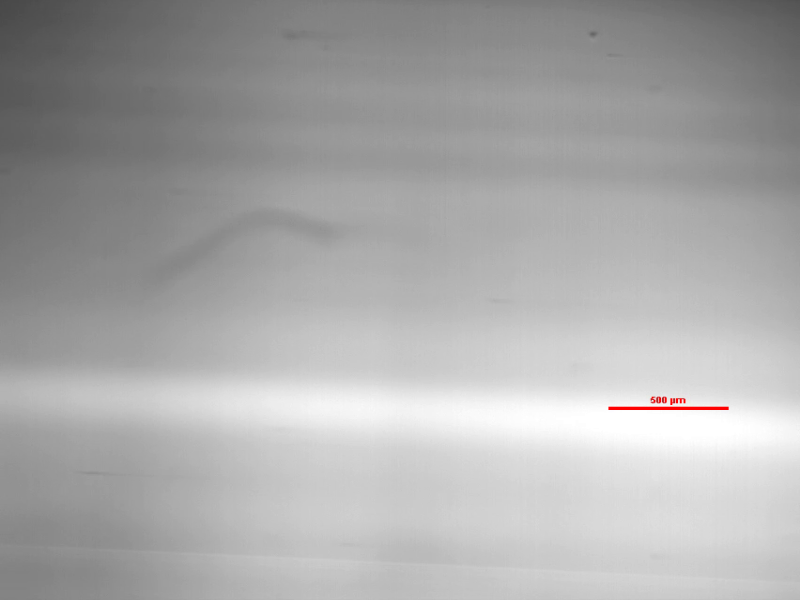bead: (587, 29, 601, 41)
fiber: (133, 203, 351, 285), (71, 462, 195, 485), (275, 24, 360, 44), (335, 536, 418, 551), (484, 291, 553, 303)
